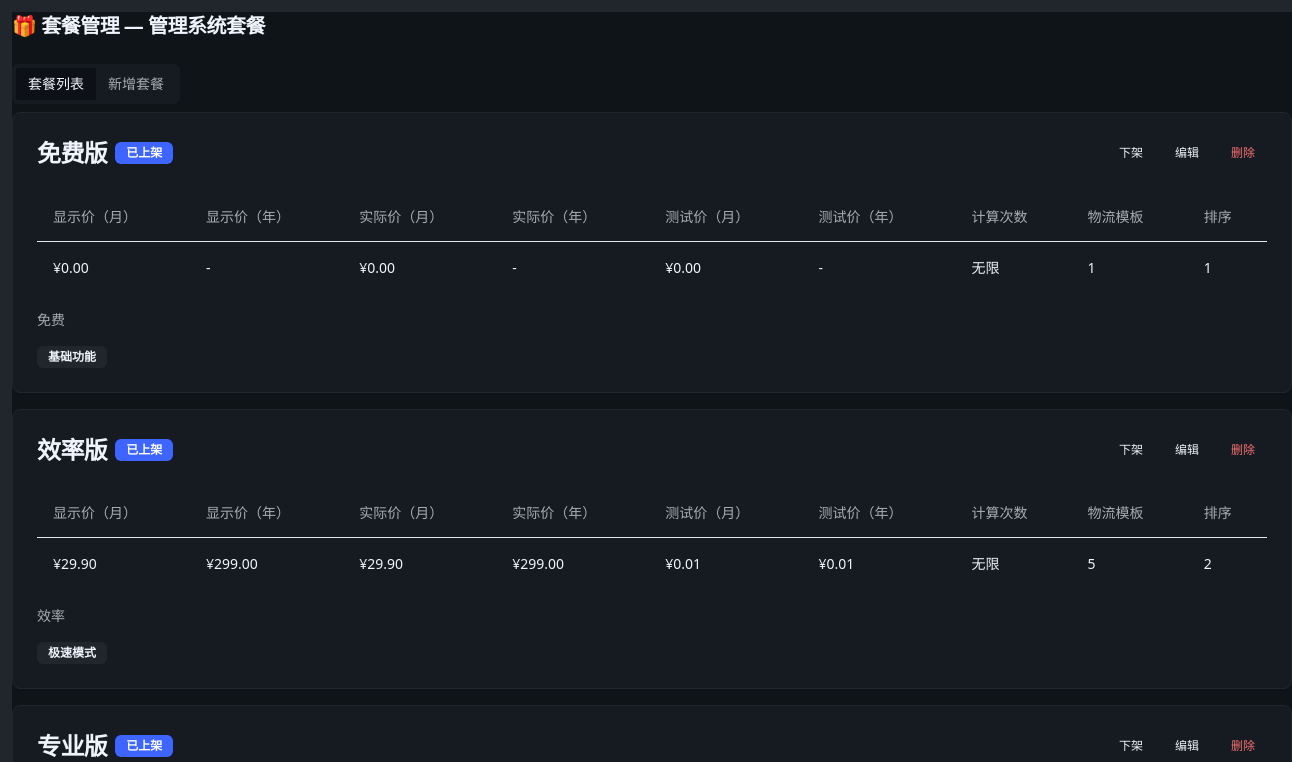
Scenario: PlanManagementPage › cancels edit and returns to plan card view
This screenshot has width=1292, height=762.
Expected: the heading "免费版" is shown, [37,141,107,165]
Click the button "编辑" in the row of "免费版": (1187, 153) [1163,137,1211,169]
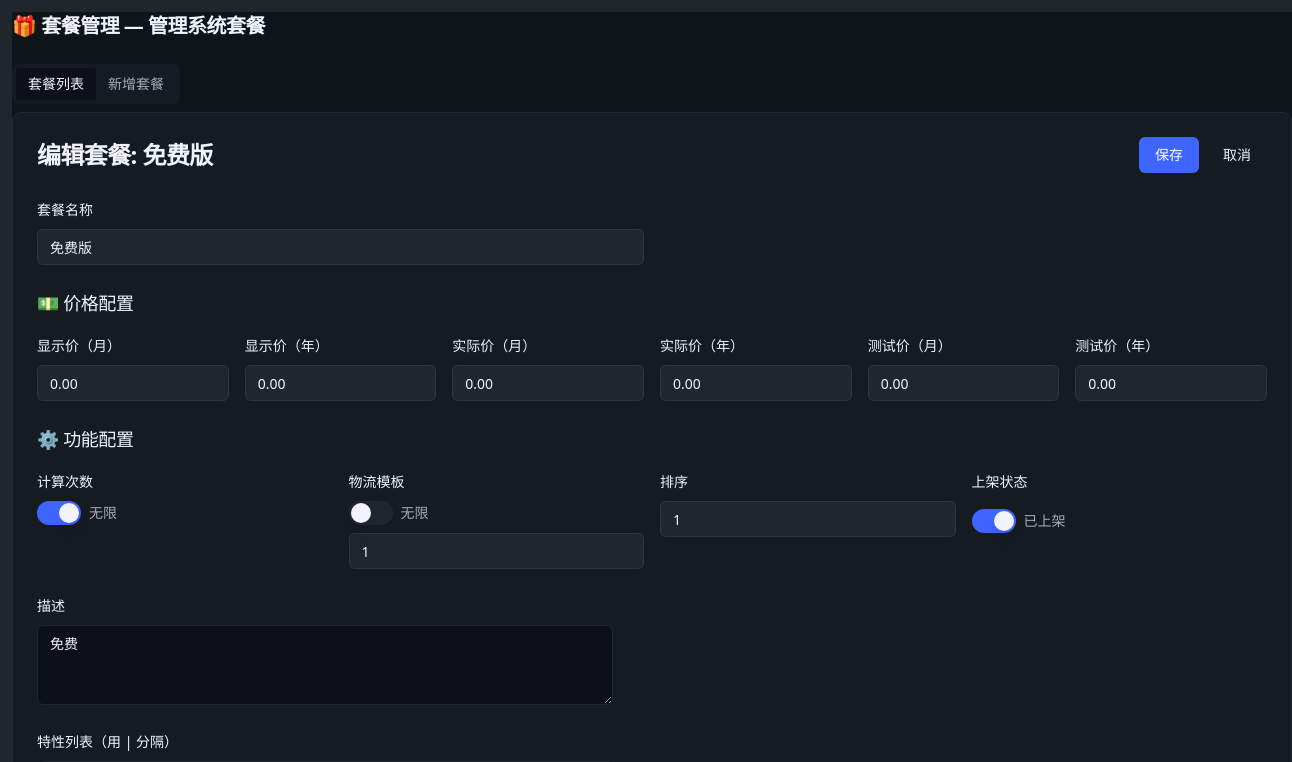
Expected: the heading "编辑套餐: 免费版" is shown, [37,143,213,167]
Click the button "取消": (1237, 155) [1207,137,1267,173]
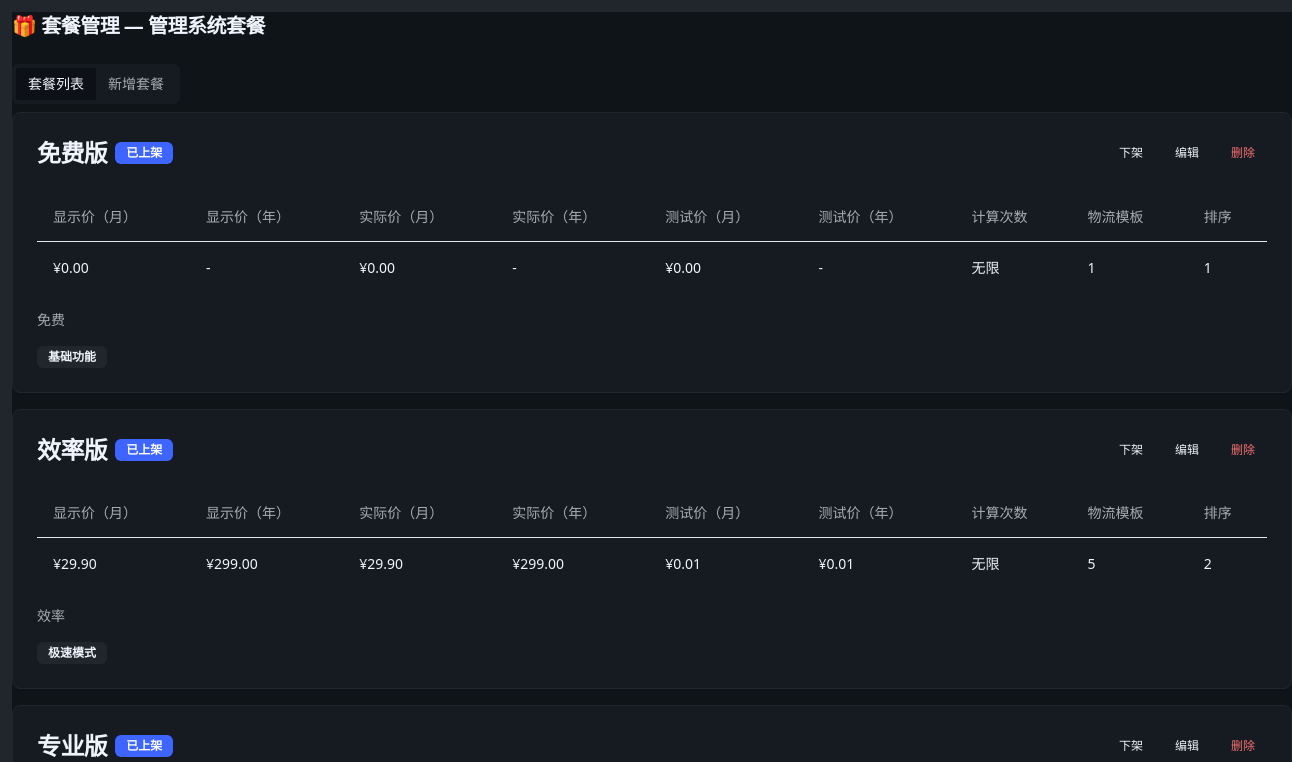
Expected: the heading "编辑套餐:" is gone
